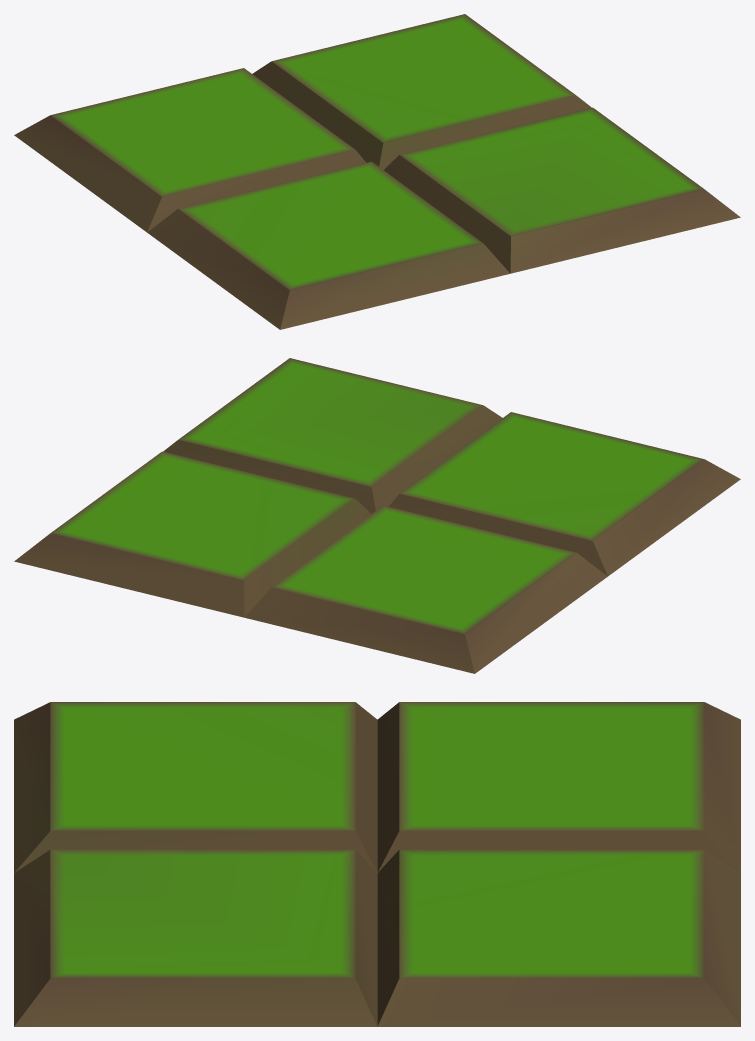
File: Farm.glb
3 renders of one model, top to bottom at view 1: azimuth 30°, elevation 25°; view 2: azimuth 150°, elevation 25°; view 3: azimuth 270°, elevation 25°, orthographic. The views are drawn at different scales.
Parts seen in each view (by area): view 1: Grid; view 2: Grid; view 3: Grid.
Part boxes in pixels (<box>): Grid: <box>14,14,740,329</box>; Grid: <box>14,358,740,673</box>; Grid: <box>14,702,740,1026</box>.
Bounding box in the file's own units: 1 × 0.05 × 1.
